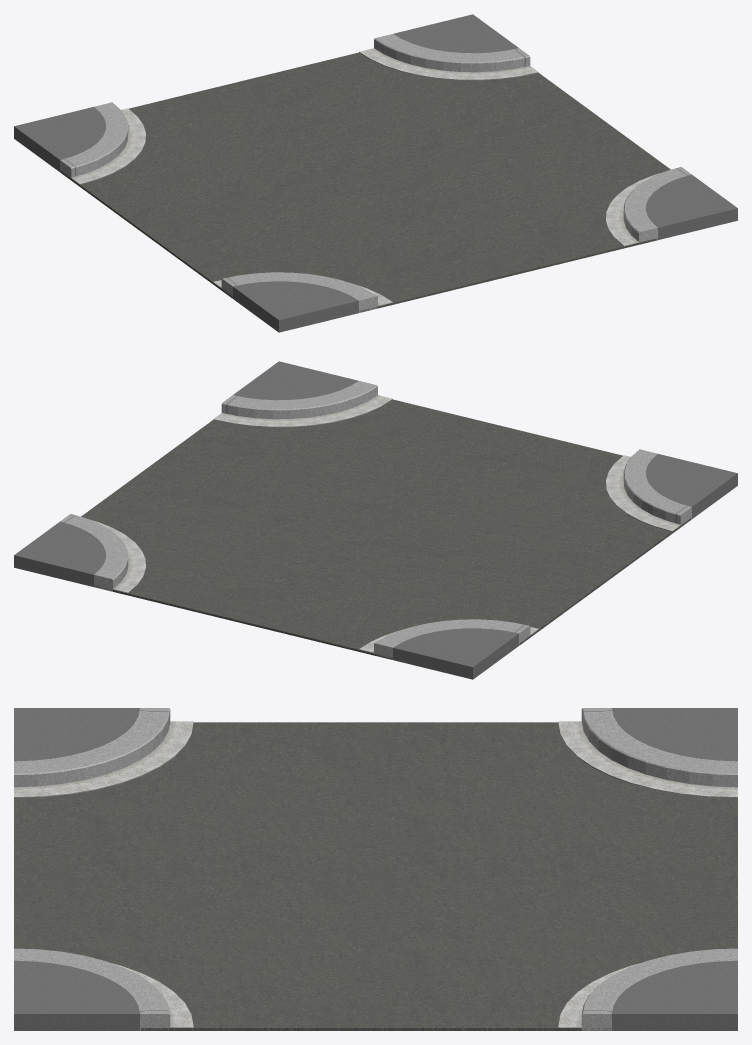
The model's file is sweethome3d-scopia-crossroad-1x1-lane.glb.
3 renders of one model, top to bottom at view 1: azimuth 30°, elevation 25°; view 2: azimuth 150°, elevation 25°; view 3: azimuth 270°, elevation 25°, orthographic. The views are drawn at different scales.
Parts seen in each view (by area): view 1: croisement1et1_Plane.026; view 2: croisement1et1_Plane.026; view 3: croisement1et1_Plane.026.
Boxes of the visible parts, x1,y1,x2,y2 form: croisement1et1_Plane.026: (14,14,737,332); croisement1et1_Plane.026: (14,361,737,679); croisement1et1_Plane.026: (14,708,737,1030).
Size of the model in its own units: 695 by 18 by 695.
Materials: 13 (13 with a texture image).
